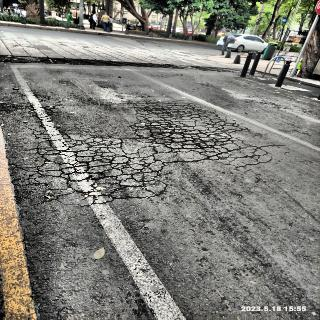alligator-crack: (21, 96, 167, 202), (129, 98, 262, 165)
